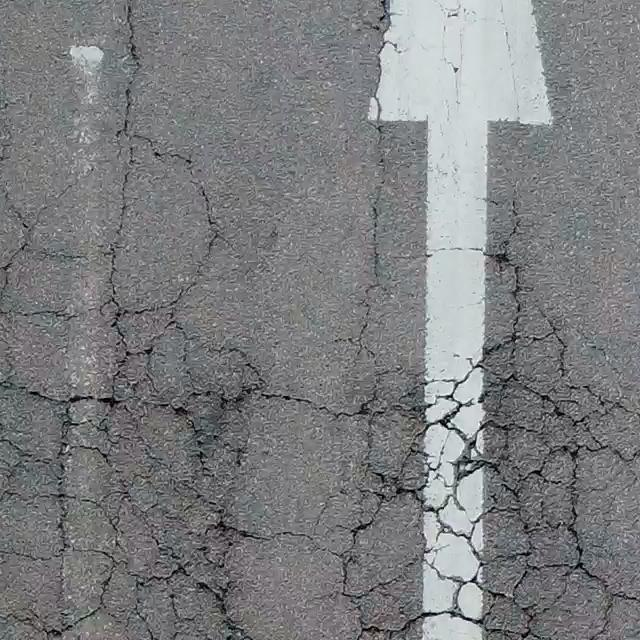GRIETA: (371, 0, 394, 175), (122, 0, 139, 136)
PIEL DE COCODRILO: (0, 118, 639, 639)
